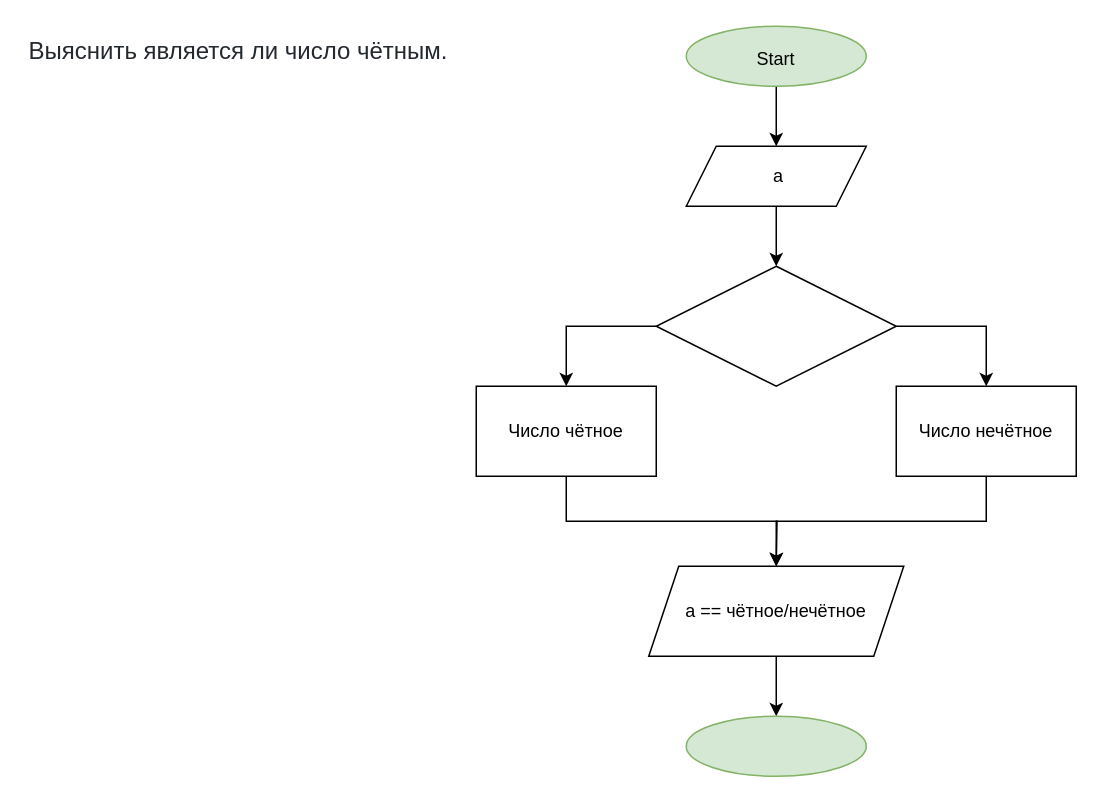
Some shapes in this 1103 by 803 pixel diagram are drawn without their labels. The shapes that lost their labels are listed below. From the top down, each one's box as (x1, y1, x2, y2) in pixels, then its label:
(655, 265, 896, 386): a % 2 == 1 ?
(685, 715, 866, 776): Fiinish
